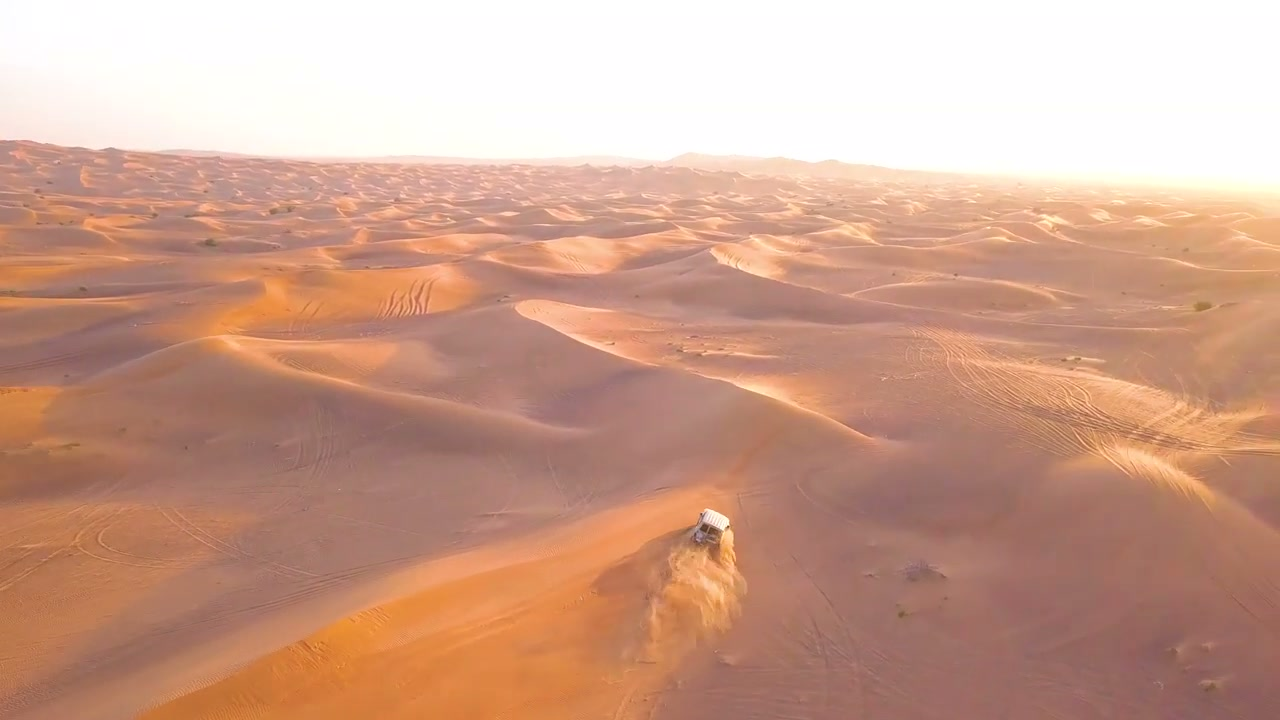vehicle_track: (915, 328, 1279, 455), (94, 554, 418, 663), (703, 552, 908, 719), (1017, 370, 1279, 454), (155, 553, 420, 636), (913, 329, 1087, 454), (999, 401, 1279, 455), (0, 478, 123, 592), (790, 553, 869, 716), (158, 506, 318, 577), (268, 399, 347, 514), (71, 506, 197, 569), (466, 454, 528, 531), (0, 534, 73, 592), (791, 472, 856, 524), (315, 510, 433, 538), (0, 544, 67, 592), (544, 452, 594, 514), (273, 348, 374, 378), (0, 503, 88, 537), (375, 277, 437, 319), (0, 350, 92, 376), (287, 300, 323, 338), (552, 250, 590, 273), (613, 685, 638, 719), (276, 353, 318, 373)
